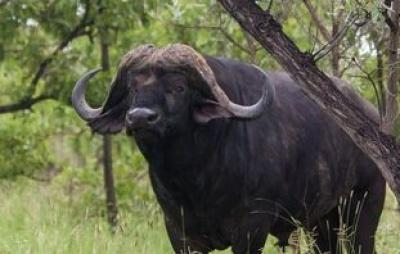buffalo: (71, 44, 400, 254)
